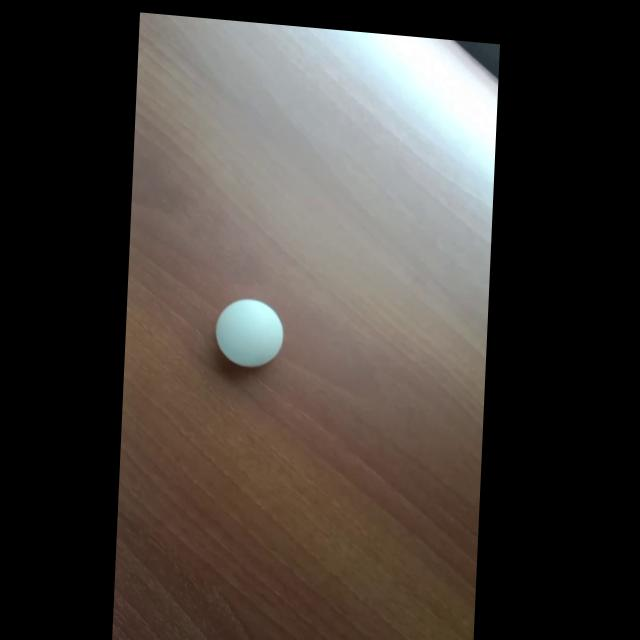white ball: (214, 295, 285, 371)
